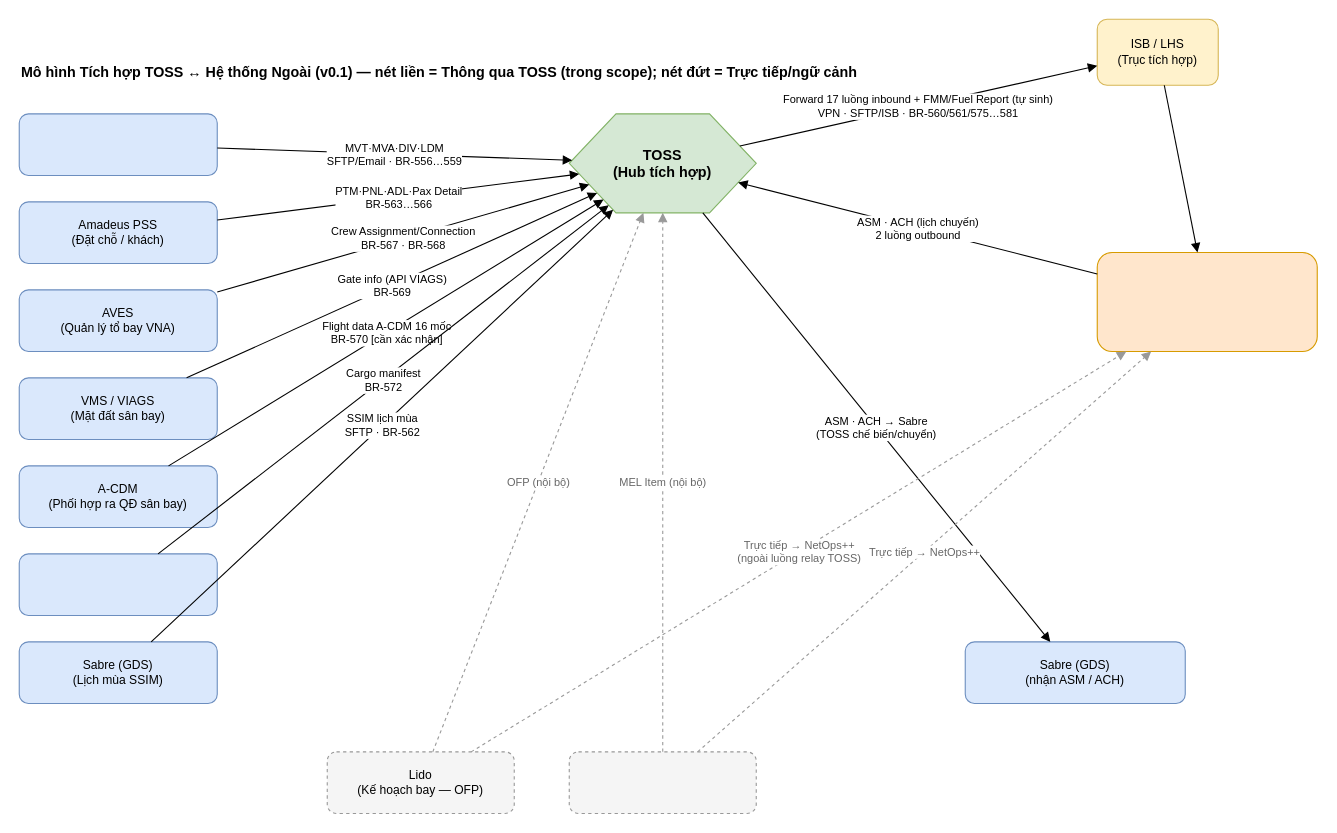
Image size: 1337x833. Some labels were removed from this diagram. The centre of each missing label's shape, as x and y in pixels:
AMOS (Bảo dưỡng — MEL Item): (x=662, y=782)
Cargo Spot (Hàng hóa): (x=117, y=584)
OPS++ / NetOps++ (LHS — hệ khai thác chính): (x=1206, y=301)
SITA (Mạng điện văn HK): (x=117, y=144)
